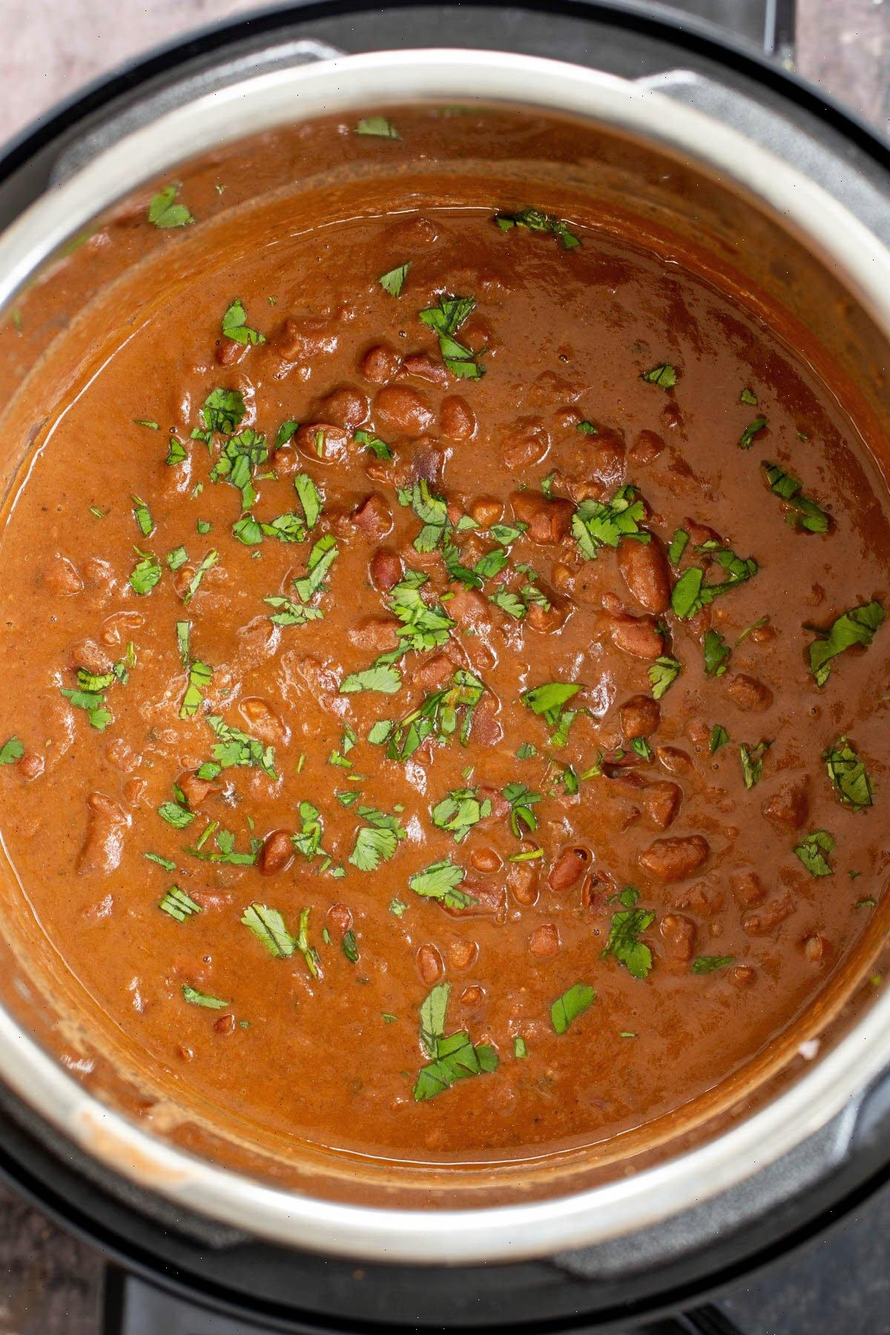rajma: (11, 189, 890, 1224)
